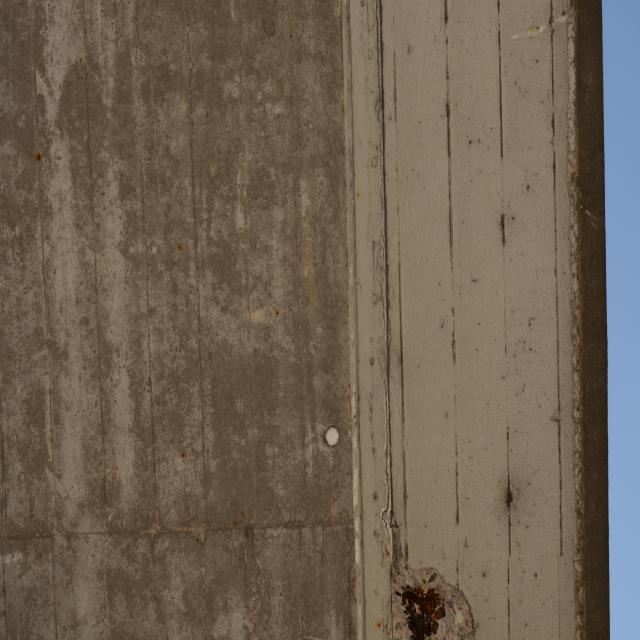Rebar: (385, 550, 477, 640)
vertical crack: (375, 0, 386, 329), (380, 383, 390, 544)
